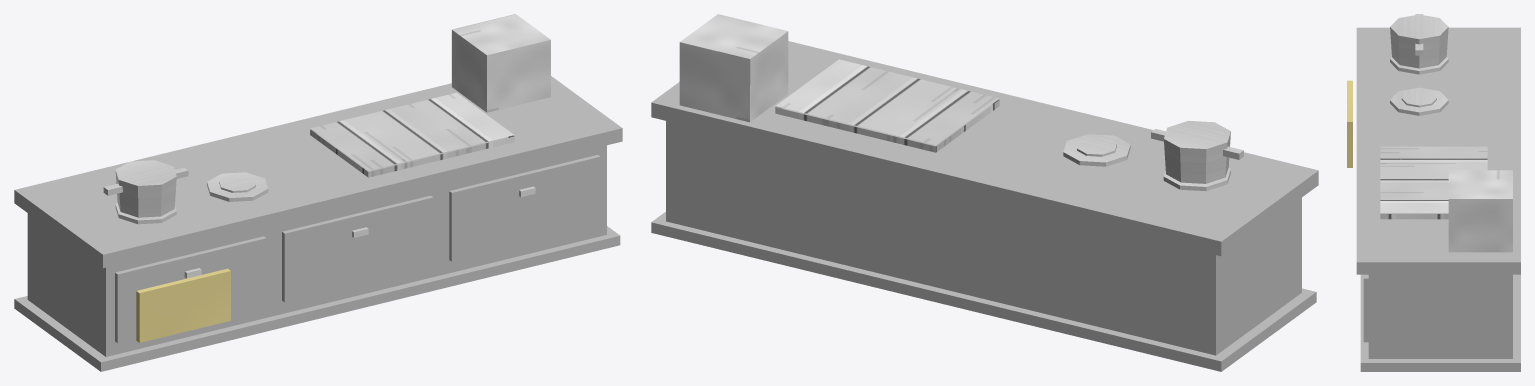
Rendered from bench_fueled_stove.obj.
The picture shows the model from 3 angles, left to right: view 1: azimuth 30°, elevation 25°; view 2: azimuth 150°, elevation 25°; view 3: azimuth 270°, elevation 25°; orthographic projection. The views are drawn at different scales.
Parts seen in each view (by area): view 1: bench_fueled_stove; view 2: bench_fueled_stove; view 3: bench_fueled_stove.
Boxes of the visible parts, x1,y1,x2,y2 form: bench_fueled_stove: [14, 14, 622, 371]; bench_fueled_stove: [651, 14, 1318, 371]; bench_fueled_stove: [1347, 14, 1520, 371].
Size of the model in its own units: 2.84 by 0.92 by 0.89.
